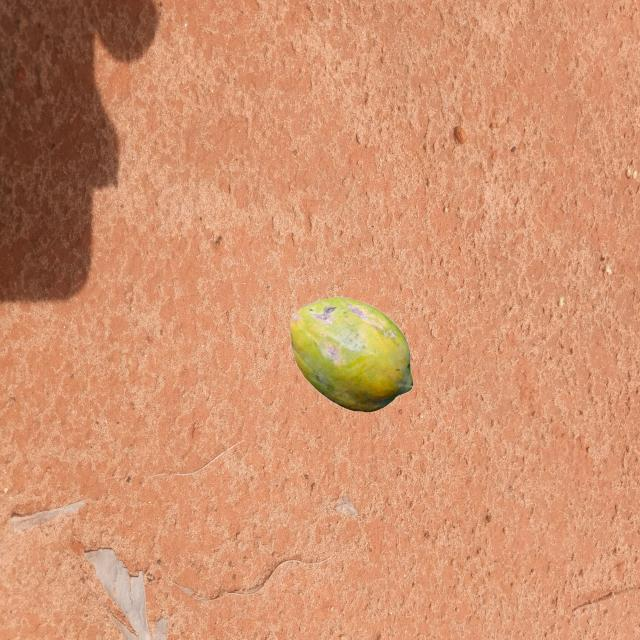Pepaya rippen: (277, 276, 422, 416)
